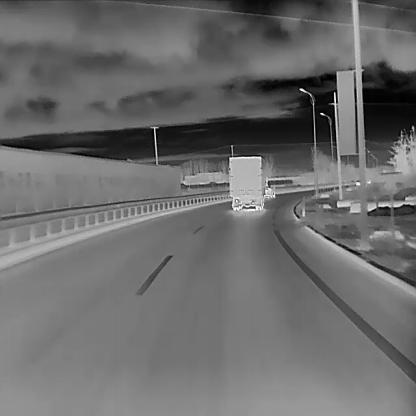car: (228, 156, 268, 211), (264, 186, 275, 198), (355, 178, 360, 184)
